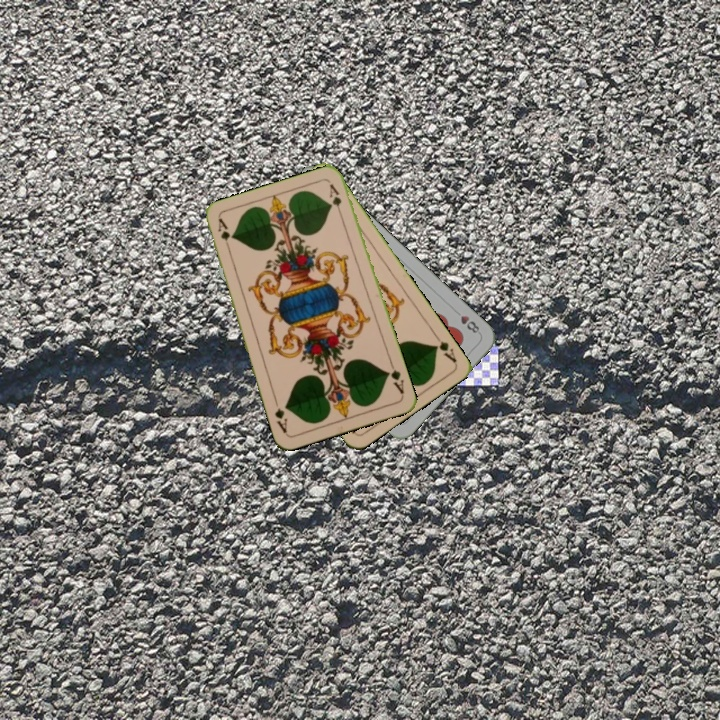GA: (430, 330, 460, 366), (382, 358, 407, 396), (213, 215, 233, 255)
H8: (450, 306, 482, 336)
